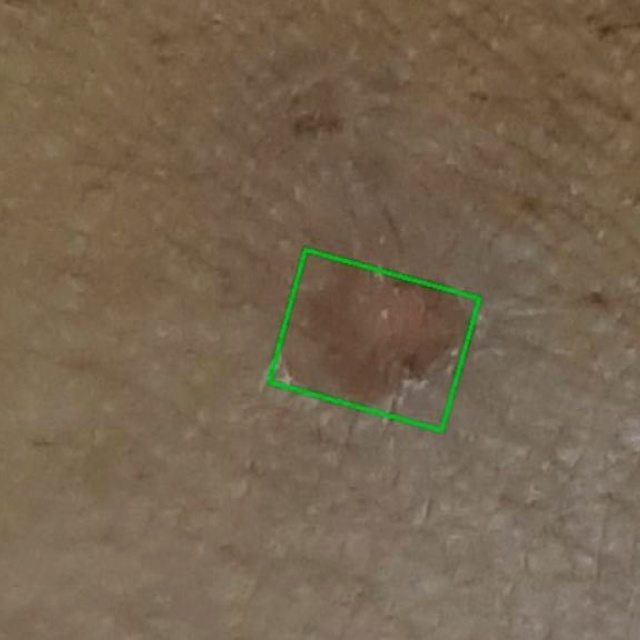Atopic Dermatitis: (269, 249, 479, 429)
